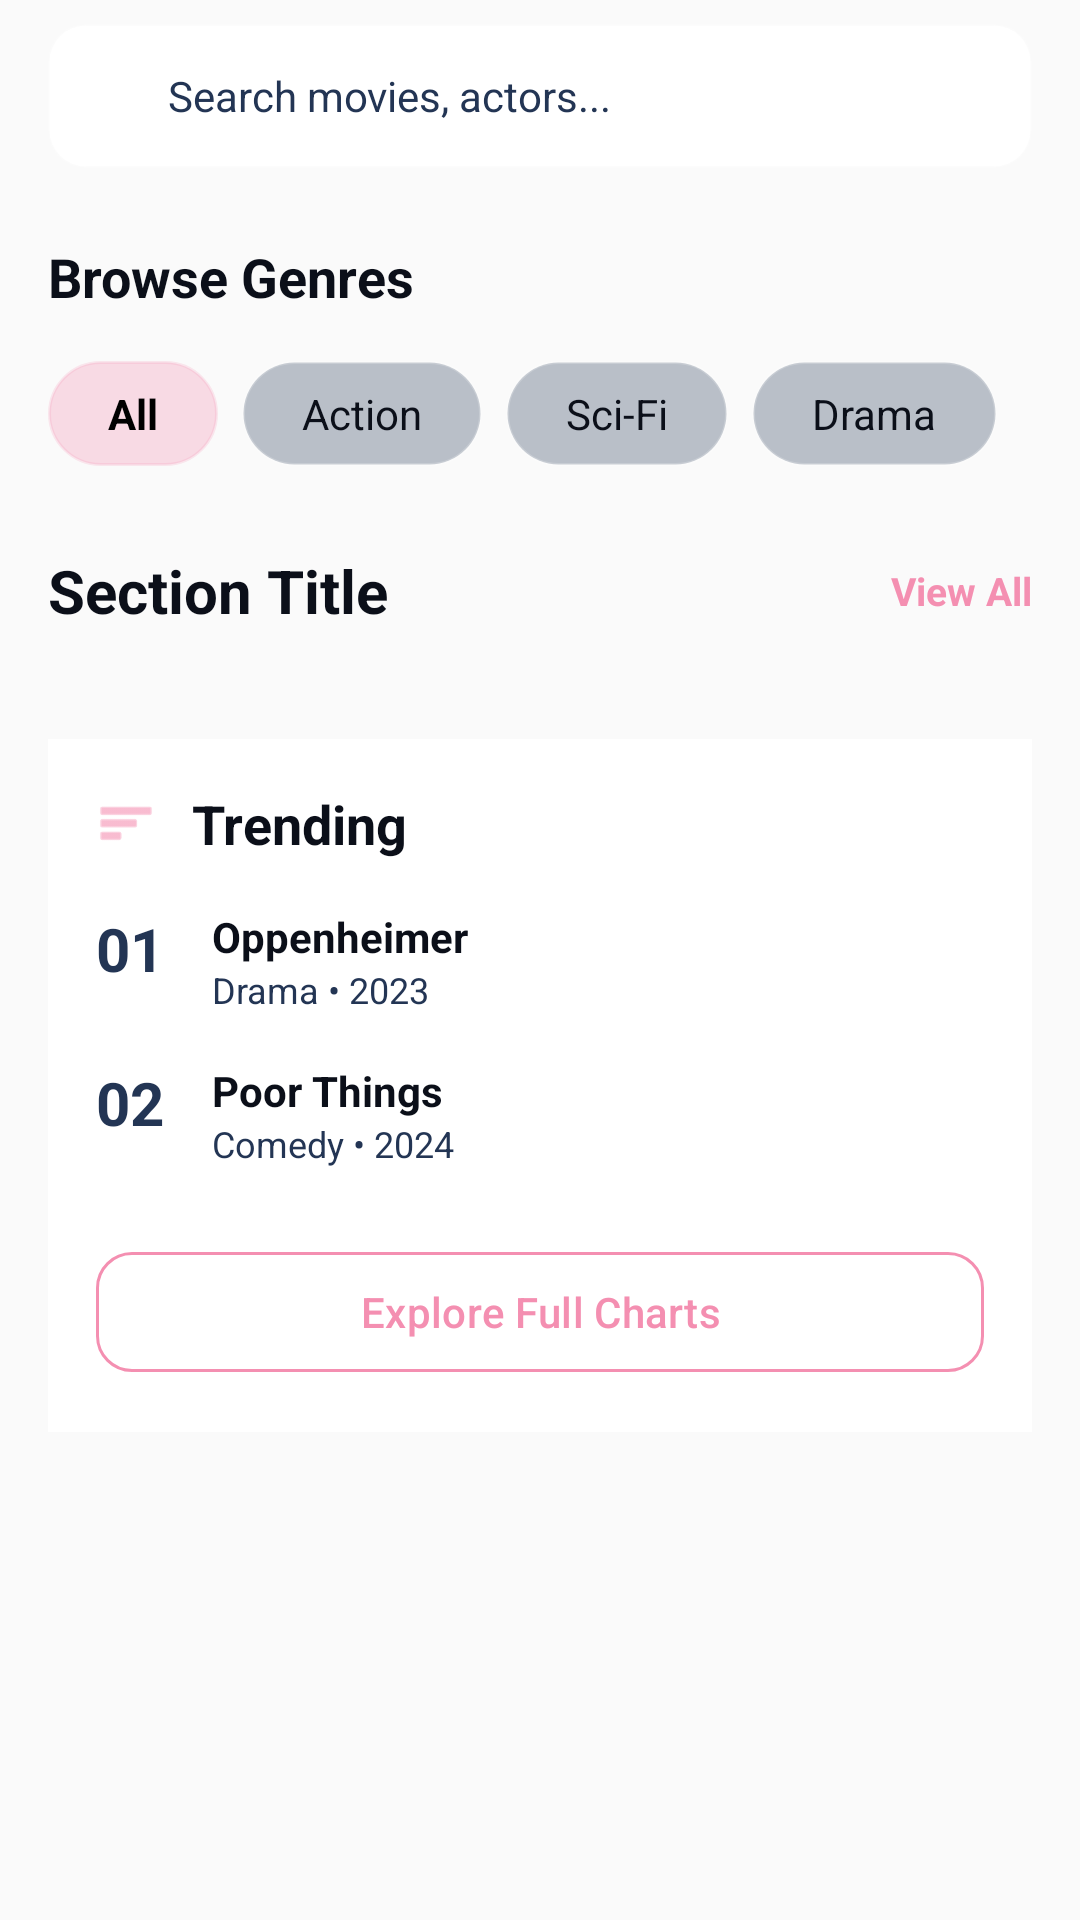

Point at icon controls on the screen. Image size 1080*1920, points as (x=x, y=y).
sort by size: (x=126, y=823)
